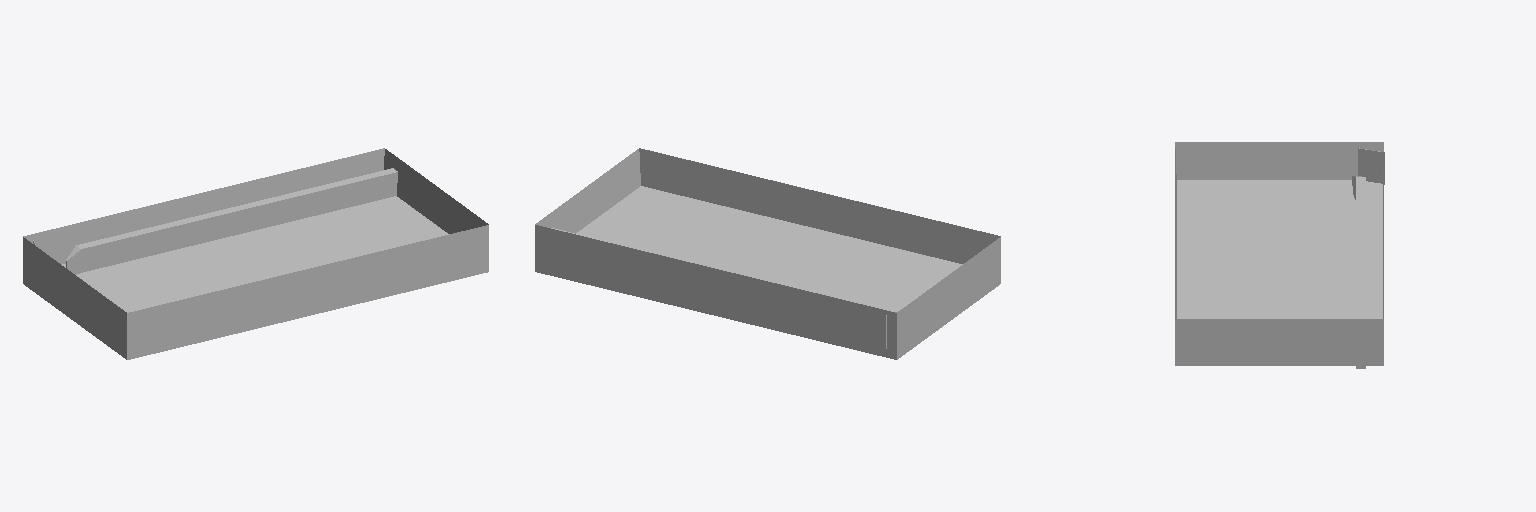
File: board2.obj
3 renders of one model, left to right at view 1: azimuth 30°, elevation 25°; view 2: azimuth 150°, elevation 25°; view 3: azimuth 270°, elevation 25°, orthographic.
Visible parts, largest first — view 1: Cube_Cube.001, Cube.001_Cube.003; view 2: Cube_Cube.001; view 3: Cube_Cube.001, Cube.001_Cube.003, Cube.002_Cube.004.
Boxes of the visible parts, <box> form: Cube_Cube.001: <box>23,148,488,359</box>; Cube.001_Cube.003: <box>66,168,397,274</box>; Cube_Cube.001: <box>535,148,1000,359</box>; Cube_Cube.001: <box>1175,142,1383,365</box>; Cube.001_Cube.003: <box>1352,176,1365,368</box>; Cube.002_Cube.004: <box>1358,148,1384,184</box>.
Bounding box in the file's own units: 8 × 1.08 × 4.01.